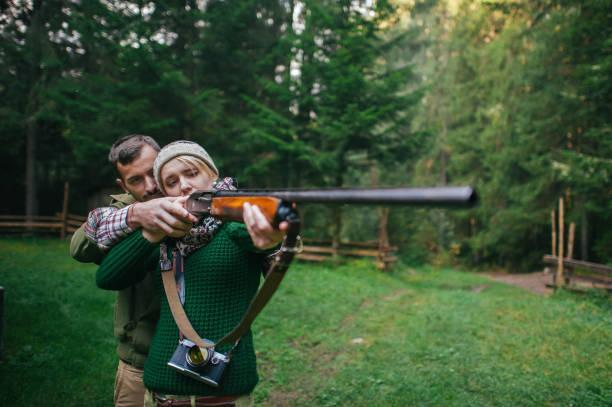larga: (182, 185, 482, 232)
